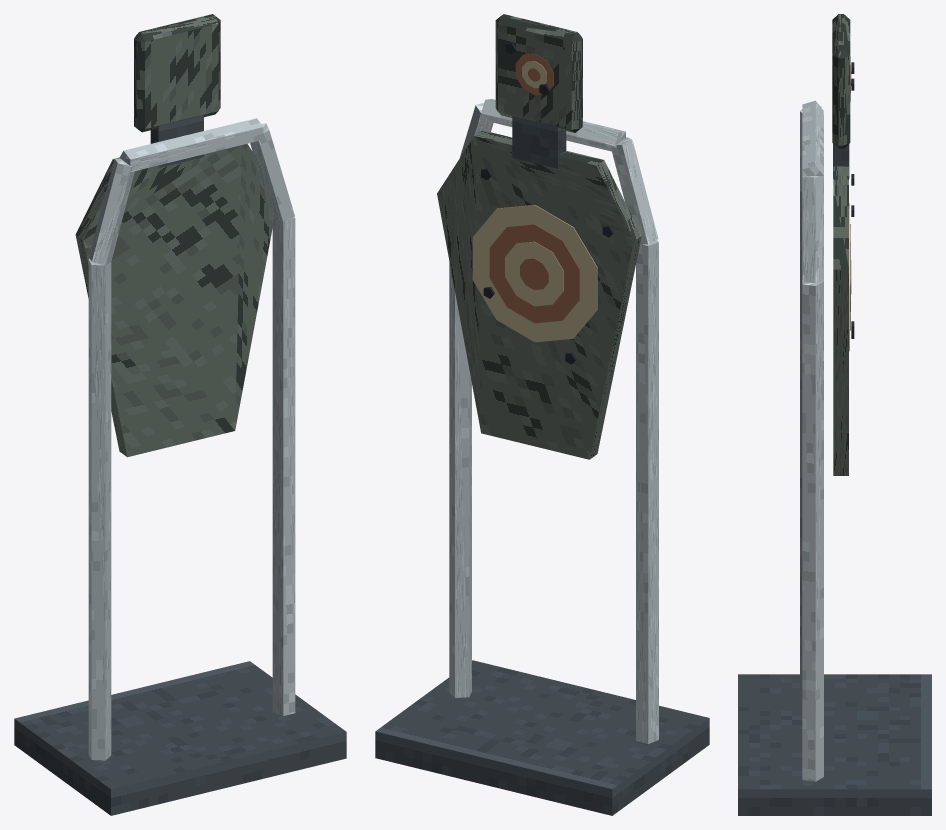
The model's file is f_target.glb.
3 views of the same model, side by side, from view 1: azimuth 30°, elevation 25°; view 2: azimuth 150°, elevation 25°; view 3: azimuth 270°, elevation 25° (orthographic).
Parts seen in each view (by area): view 1: block_silhouette-torso, block_foot, block_target-pipe-frame-1, block_target-pipe-frame-5, block_silhouette-head, block_target-pipe-frame-3, block_target-pipe-frame-2, block_target-pipe-frame-4, block_neck; view 2: block_silhouette-torso, block_foot, block_painted-bullseye-ring (×5), block_target-pipe-frame-1, block_target-pipe-frame-5, block_silhouette-head, block_target-pipe-frame-2, block_neck, block_target-pipe-frame-3; view 3: block_foot, block_target-pipe-frame-5, block_silhouette-torso, block_silhouette-head, block_target-pipe-frame-4, block_target-pipe-frame-3, block_target-pipe-frame-1, block_neck.
Boxes of the visible parts, x1,y1,x2,y2 form: block_silhouette-torso: [75, 143, 272, 457]; block_foot: [14, 661, 346, 815]; block_target-pipe-frame-1: [88, 258, 111, 760]; block_target-pipe-frame-5: [272, 217, 295, 715]; block_silhouette-head: [134, 14, 220, 132]; block_target-pipe-frame-3: [119, 118, 263, 171]; block_target-pipe-frame-2: [89, 158, 134, 265]; block_target-pipe-frame-4: [250, 123, 294, 221]; block_neck: [150, 115, 203, 167]; block_silhouette-torso: [437, 130, 641, 459]; block_foot: [375, 660, 709, 815]; block_painted-bullseye-ring (×5): [472, 53, 597, 342]; block_target-pipe-frame-1: [636, 240, 658, 743]; block_target-pipe-frame-5: [449, 262, 471, 697]; block_silhouette-head: [495, 14, 582, 132]; block_target-pipe-frame-2: [610, 137, 658, 244]; block_neck: [512, 115, 566, 168]; block_target-pipe-frame-3: [481, 99, 625, 151]; block_foot: [738, 674, 931, 815]; block_target-pipe-frame-5: [802, 281, 823, 781]; block_silhouette-torso: [833, 166, 848, 475]; block_silhouette-head: [832, 14, 850, 148]; block_target-pipe-frame-4: [802, 176, 823, 282]; block_target-pipe-frame-3: [802, 100, 823, 175]; block_target-pipe-frame-1: [800, 191, 802, 687]; block_neck: [833, 144, 849, 178].
Bounding box in the file's own units: 0.52 × 1.53 × 0.37.
Materials: 1 (1 with a texture image).
